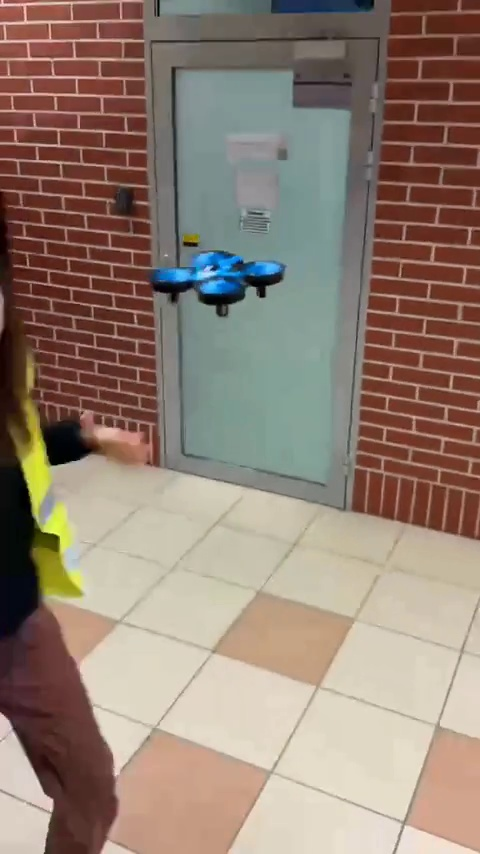drone: (155, 249, 289, 313)
vest: (0, 235, 146, 854)
